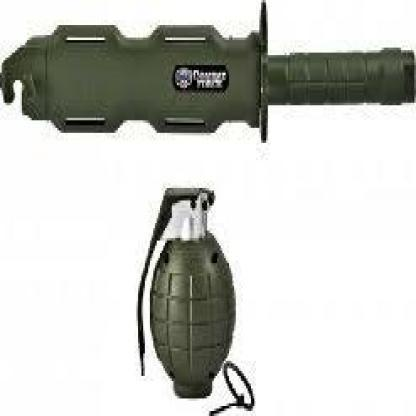Grenade: (137, 187, 238, 405)
Knife: (2, 0, 416, 136)
